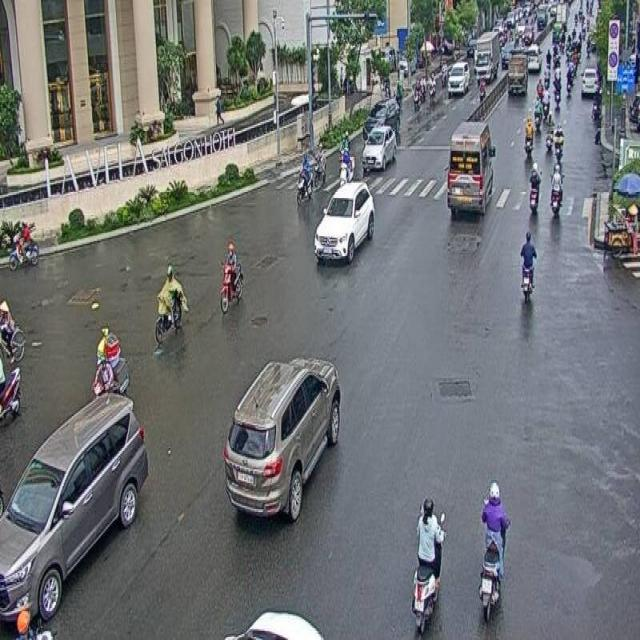car: (0, 394, 154, 638), (223, 358, 341, 527), (314, 182, 374, 264), (362, 125, 396, 172)
motorcycle: (479, 480, 509, 619), (154, 260, 188, 344), (8, 218, 39, 268), (518, 228, 536, 302), (295, 153, 312, 205)
truck: (446, 119, 494, 215)
